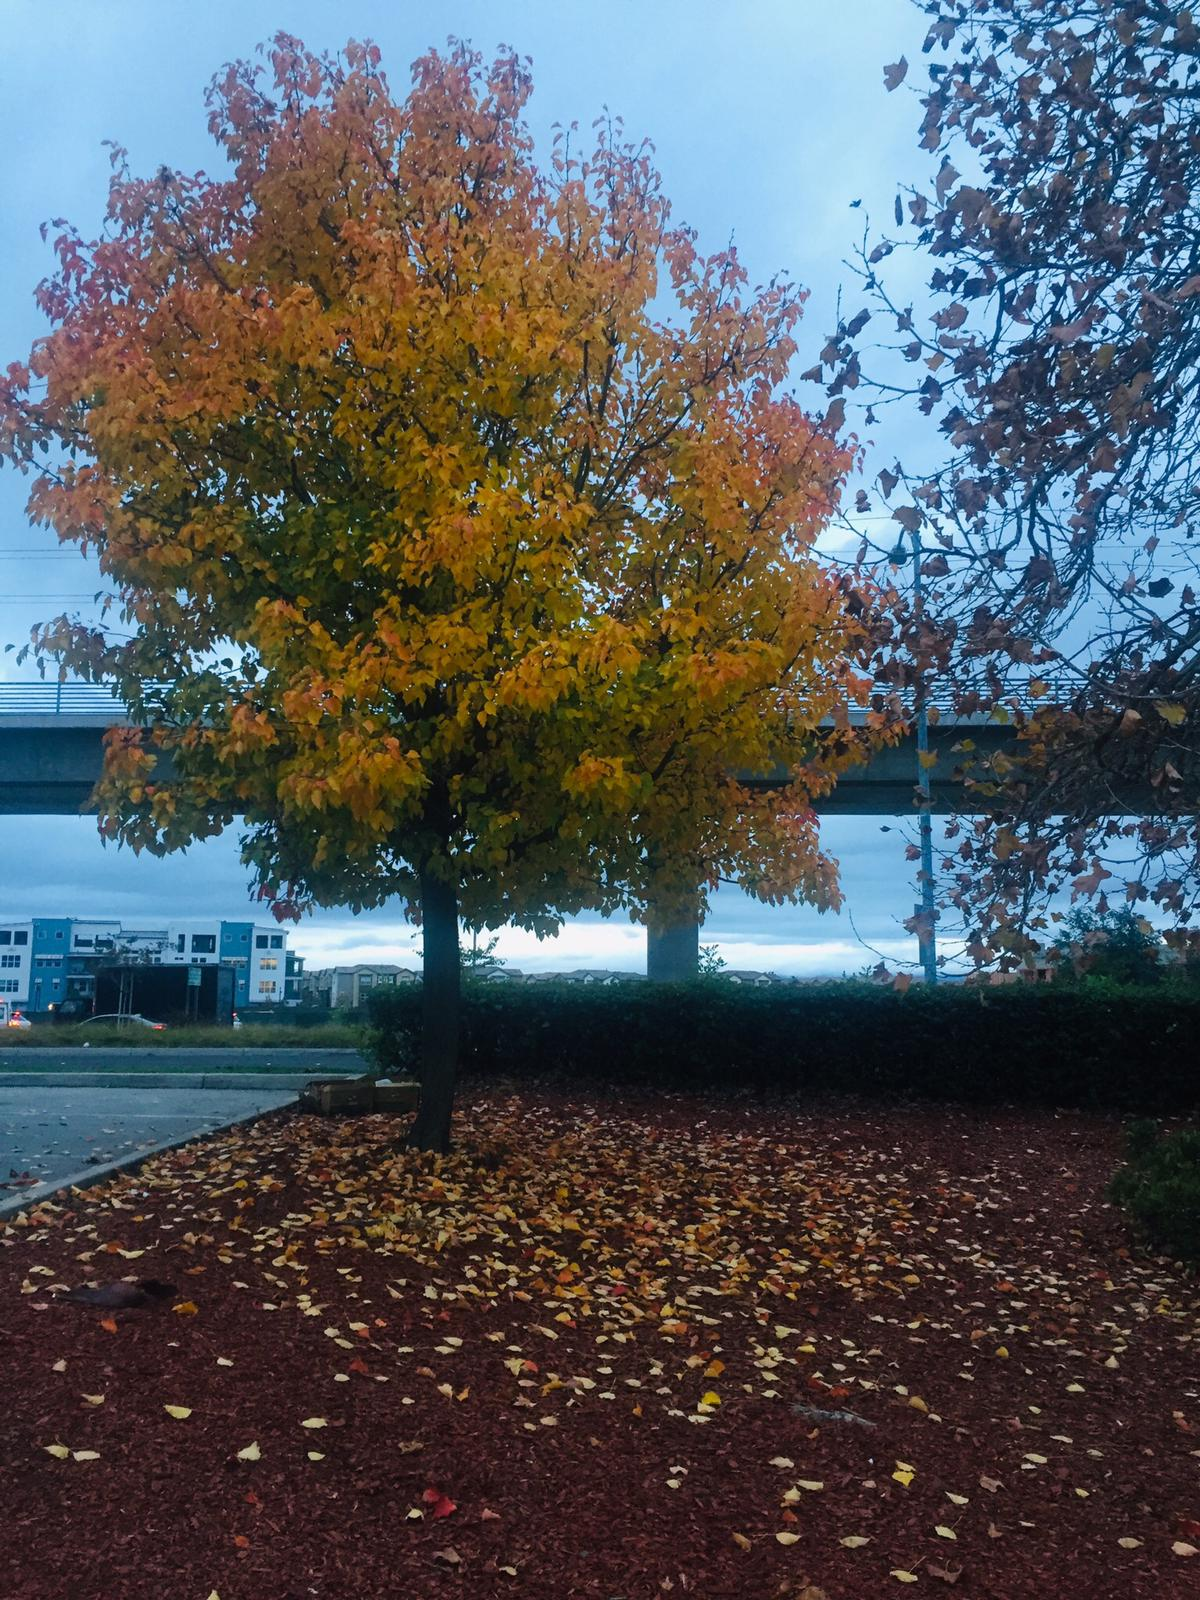plants: (61, 13, 839, 1194), (895, 1, 1197, 1091)
